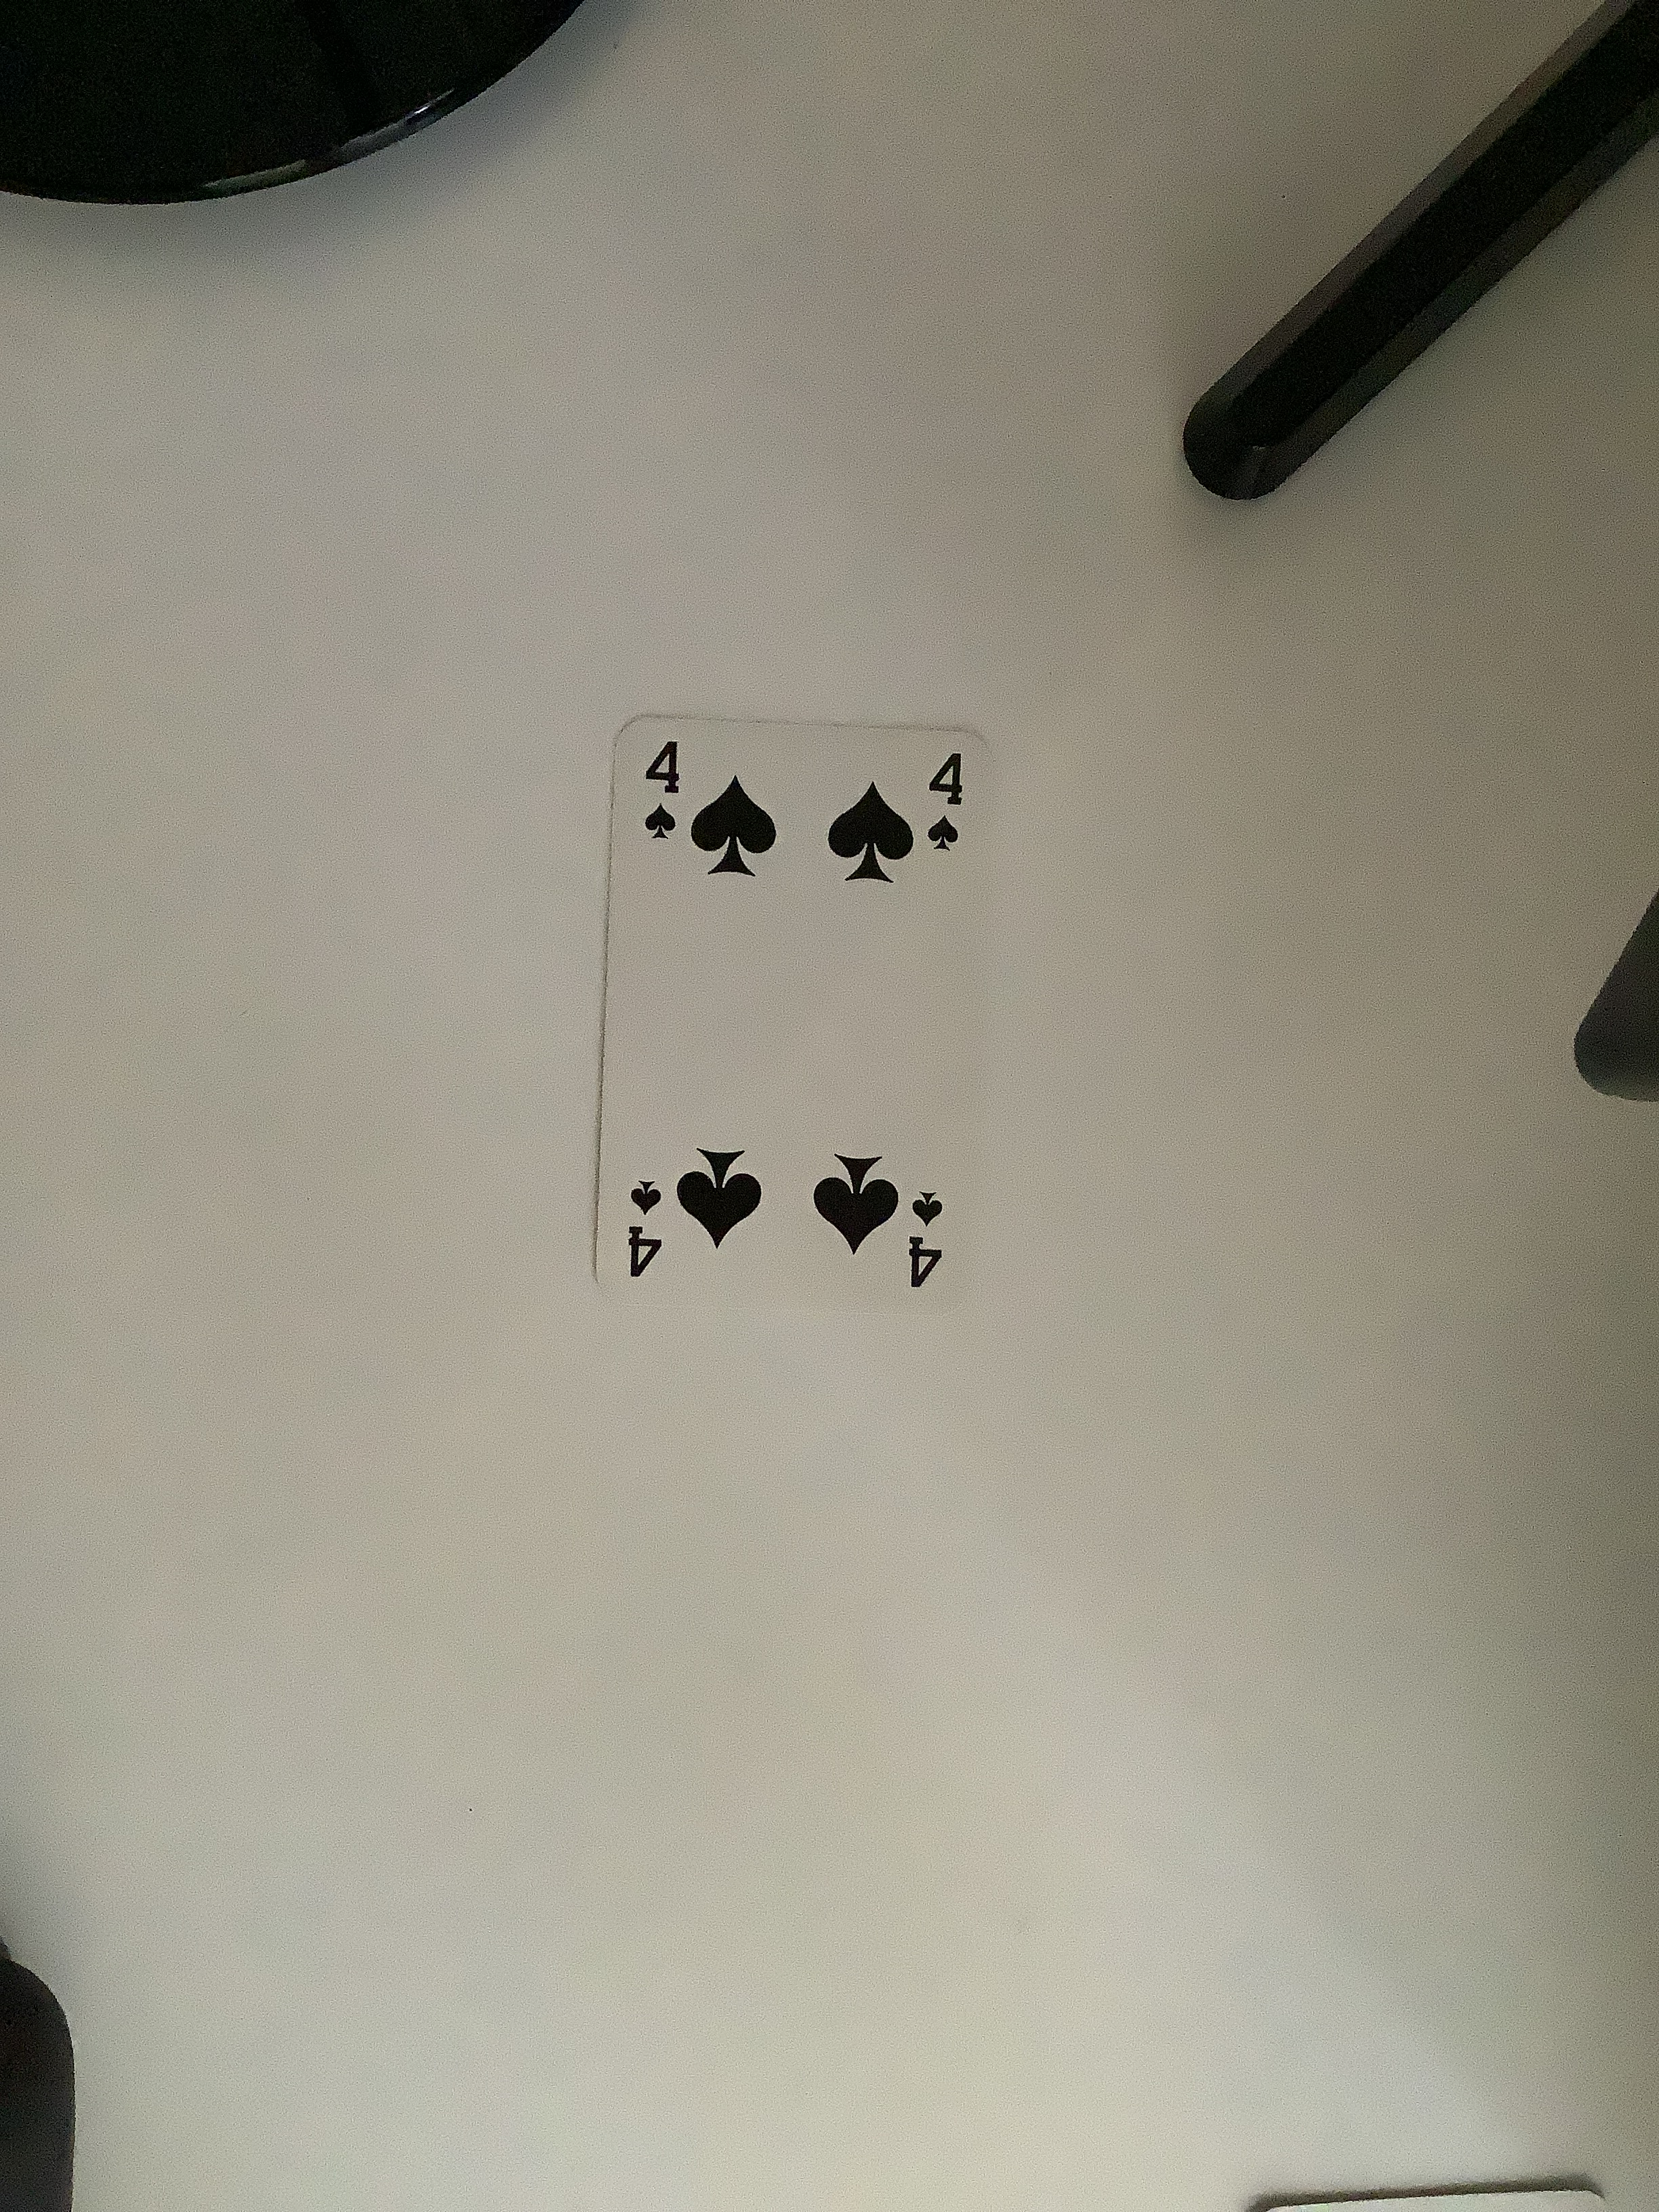♠ 4: (594, 676, 1037, 1348)
